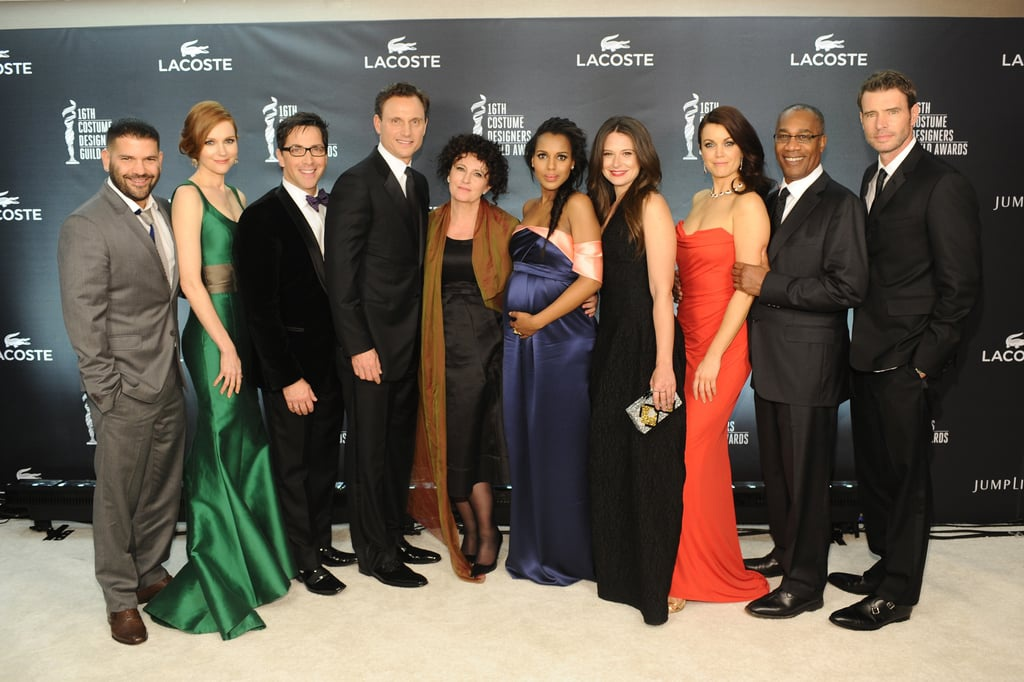bad: (855, 95, 907, 147), (112, 141, 164, 193), (769, 124, 821, 176), (279, 136, 331, 188), (530, 146, 573, 190), (698, 132, 741, 175), (597, 142, 640, 185), (381, 108, 424, 151), (199, 132, 242, 175), (449, 162, 485, 198)
